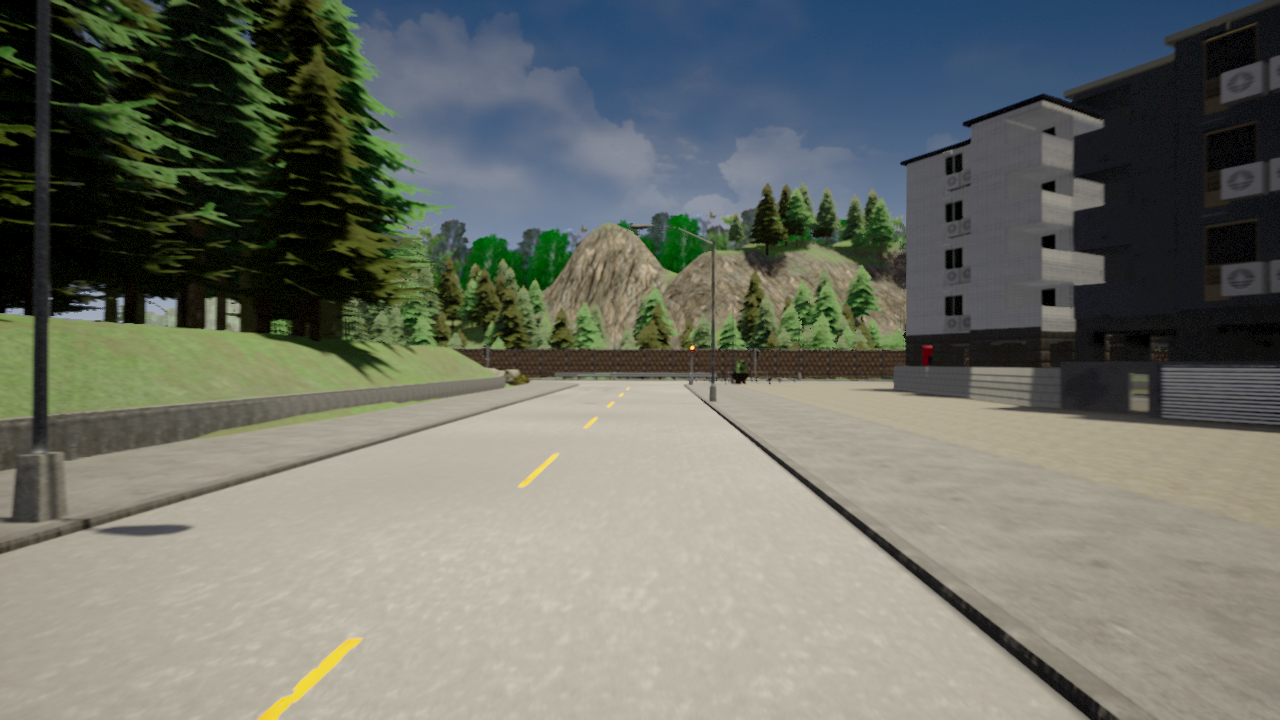red: (690, 344, 695, 358)
